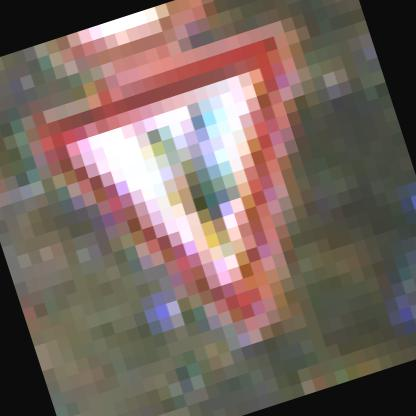crosswalk: (32, 20, 357, 346)
